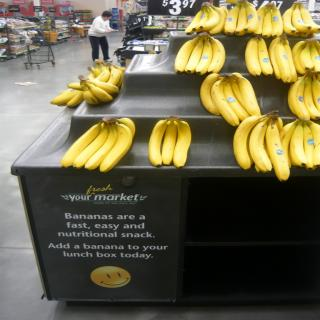Banana: (173, 0, 320, 181), (60, 118, 136, 173), (51, 59, 128, 105), (234, 113, 267, 168), (151, 115, 172, 166), (173, 119, 190, 168), (161, 120, 177, 164)
